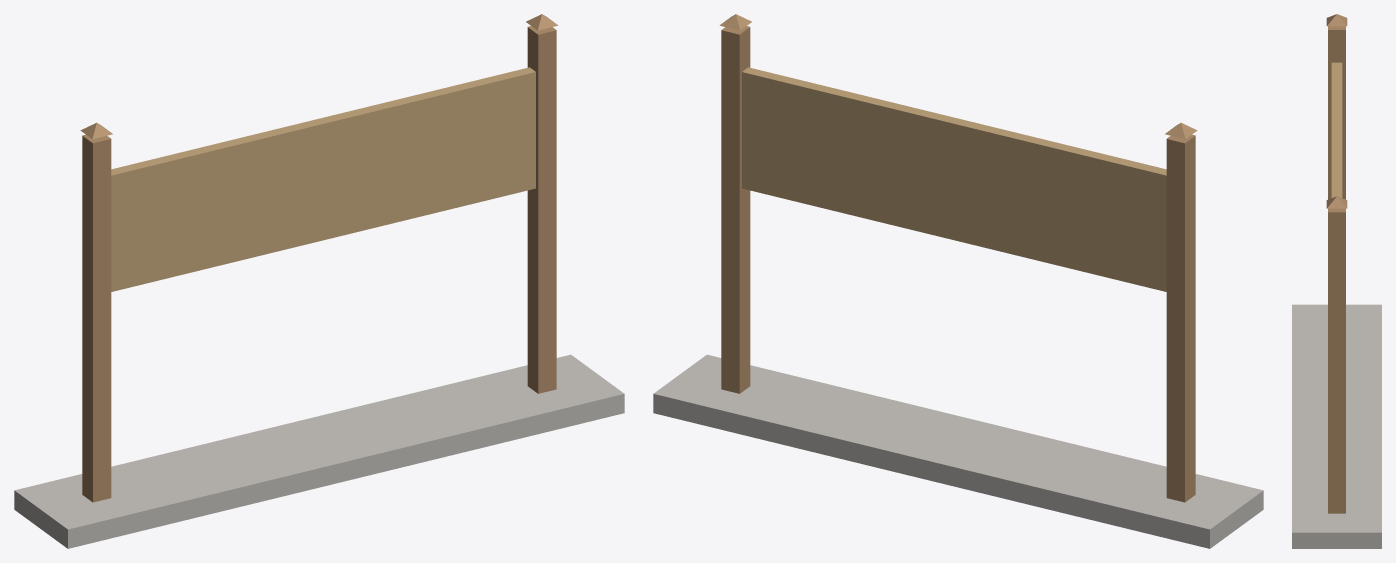
File: park_sign.glb
The picture shows the model from 3 angles, left to right: view 1: azimuth 30°, elevation 25°; view 2: azimuth 150°, elevation 25°; view 3: azimuth 270°, elevation 25°; orthographic projection. The views are drawn at different scales.
Parts seen in each view (by area): view 1: sign_panel, base, post_l, post_r; view 2: sign_panel, base, post_l, post_r; view 3: base, post_r, post_l, sign_panel, cap_l, cap_r.
Boxes of the visible parts, x1,y1,x2,y2 form: sign_panel: (111,67,535,291); base: (14,354,624,548); post_l: (82,134,111,502); post_r: (527,26,556,393); sign_panel: (742,67,1166,291); base: (653,354,1263,548); post_l: (1166,134,1195,502); post_r: (721,26,750,393); base: (1292,304,1381,548); post_r: (1328,208,1345,513); post_l: (1328,26,1345,199); sign_panel: (1331,62,1342,197); cap_l: (1326,14,1347,26); cap_r: (1326,196,1347,208).
Bounding box in the file's own units: 3 × 2.07 × 0.5.
